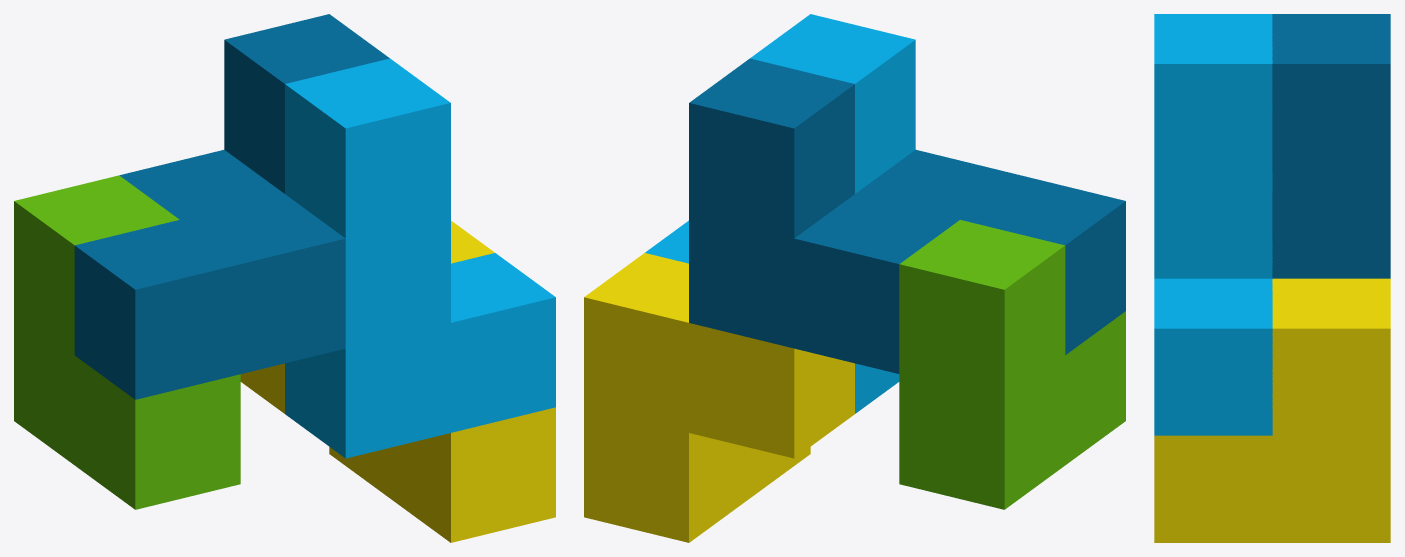
The picture shows the model from 3 angles, left to right: view 1: azimuth 30°, elevation 25°; view 2: azimuth 150°, elevation 25°; view 3: azimuth 270°, elevation 25°; orthographic projection. The views are drawn at different scales.
Visible parts, largest first — view 1: mergedBlocks(Clone); view 2: mergedBlocks(Clone); view 3: mergedBlocks(Clone).
Boxes of the visible parts, x1,y1,x2,y2 form: mergedBlocks(Clone): (14,14,555,542); mergedBlocks(Clone): (584,14,1125,542); mergedBlocks(Clone): (1154,14,1390,542).
Size of the model in its own units: 4 by 4 by 2.
Materials: 4 (4 with a texture image).
